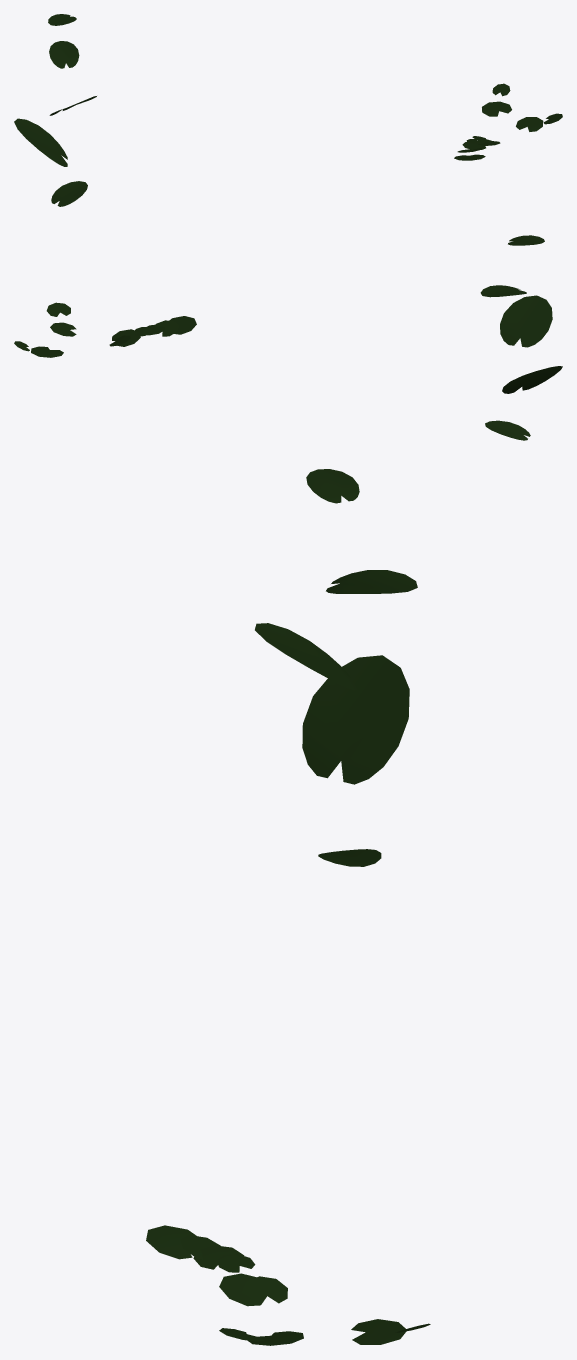
The model's file is weeds_-07+00_foliage.dae.
3 renders of one model, top to bottom at view 1: azimuth 30°, elevation 25°; view 2: azimuth 150°, elevation 25°; view 3: azimuth 270°, elevation 25°, orthographic. The views are drawn at different scales.
Visible parts, largest first — view 1: weeds_-07+00_foliage; view 2: weeds_-07+00_foliage; view 3: weeds_-07+00_foliage.
Boxes of the visible parts, bbox=[...] form: weeds_-07+00_foliage: bbox=[14, 14, 562, 206]; weeds_-07+00_foliage: bbox=[14, 235, 562, 440]; weeds_-07+00_foliage: bbox=[146, 469, 430, 1345].
Bounding box in the file's own units: 0.922 × 0.2207 × 0.3592.
